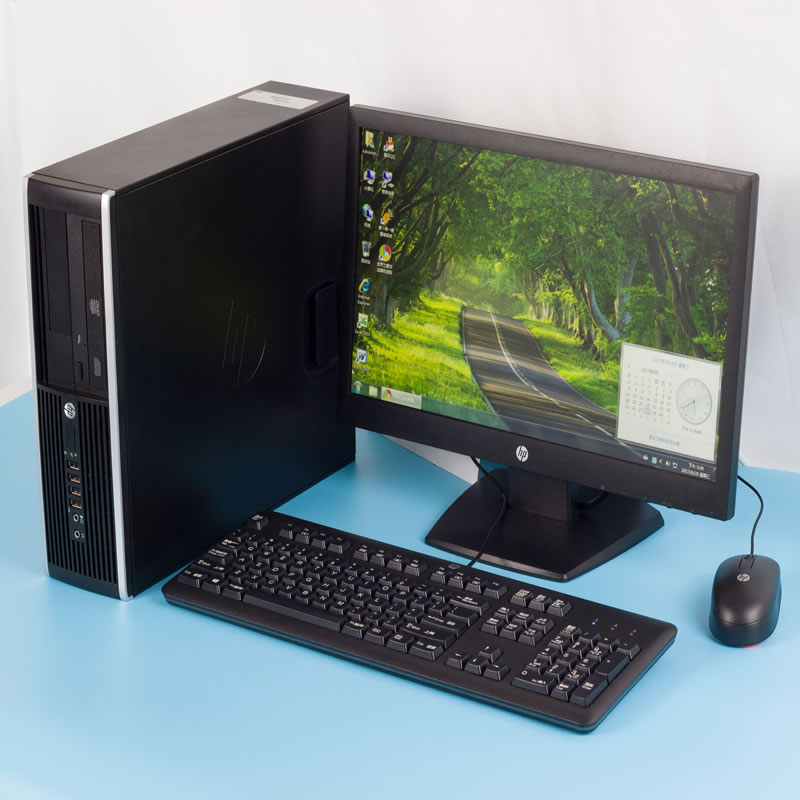keyboard: (162, 508, 681, 738)
mouse: (710, 552, 783, 650)
